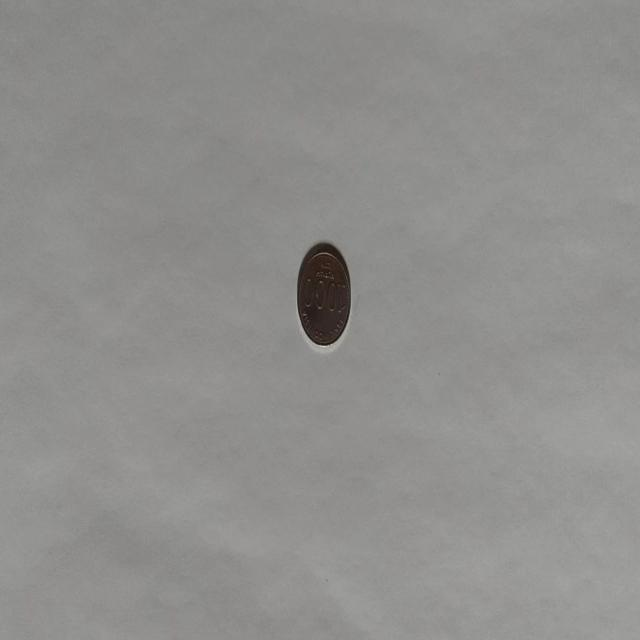seribu rupiah koin: (296, 240, 352, 348)
